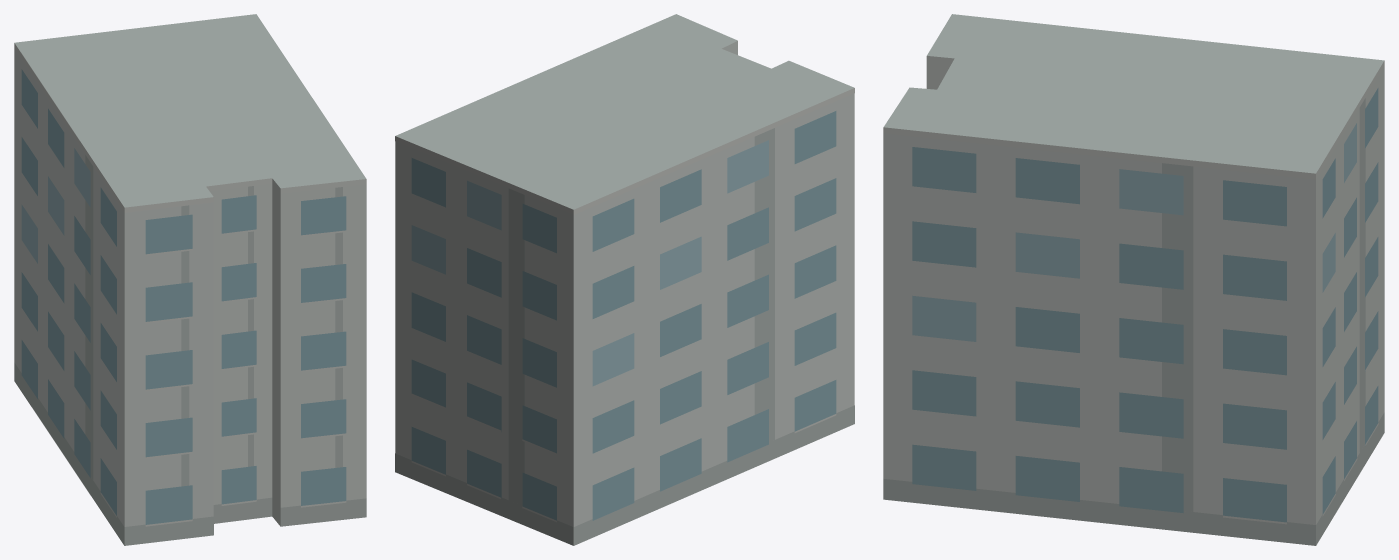
Rendered from survey-upis-32868528.glb.
3 views of the same model, side by side, from view 1: azimuth 30°, elevation 25°; view 2: azimuth 150°, elevation 25°; view 3: azimuth 270°, elevation 25° (orthographic). The views are drawn at different scales.
Parts seen in each view (by area): view 1: survey-upis-32868528.tmp; view 2: survey-upis-32868528.tmp; view 3: survey-upis-32868528.tmp.
Boxes of the visible parts, x1=… form: survey-upis-32868528.tmp: x1=14, y1=14, x2=366, y2=545; survey-upis-32868528.tmp: x1=395, y1=14, x2=854, y2=545; survey-upis-32868528.tmp: x1=883, y1=14, x2=1384, y2=545.
Size of the model in its own units: 14.03 by 15.25 by 18.61.
